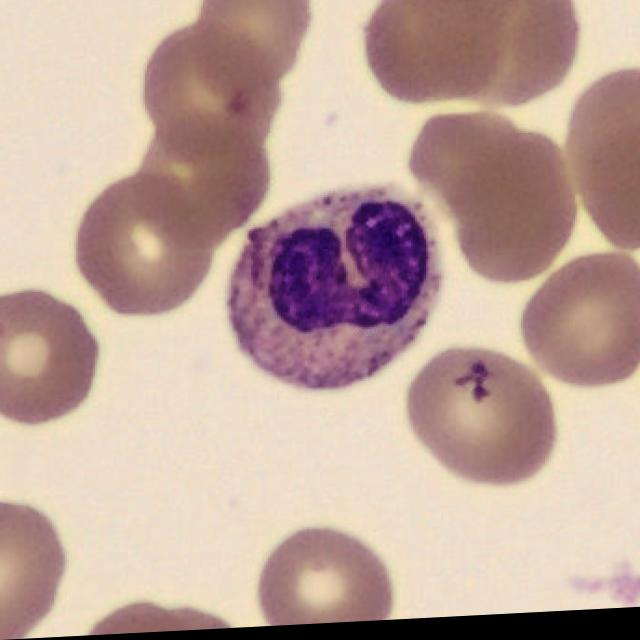Neutrofilo segmentado: (225, 189, 445, 394)
